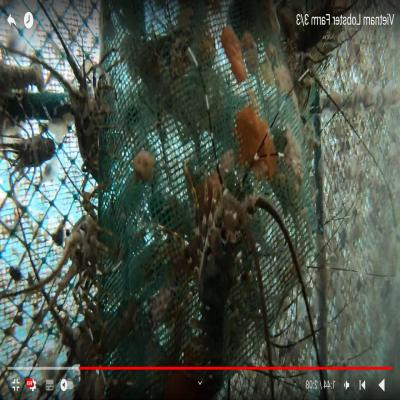lobster: (190, 204, 247, 358), (66, 201, 97, 296), (72, 82, 104, 172), (16, 128, 56, 172)
